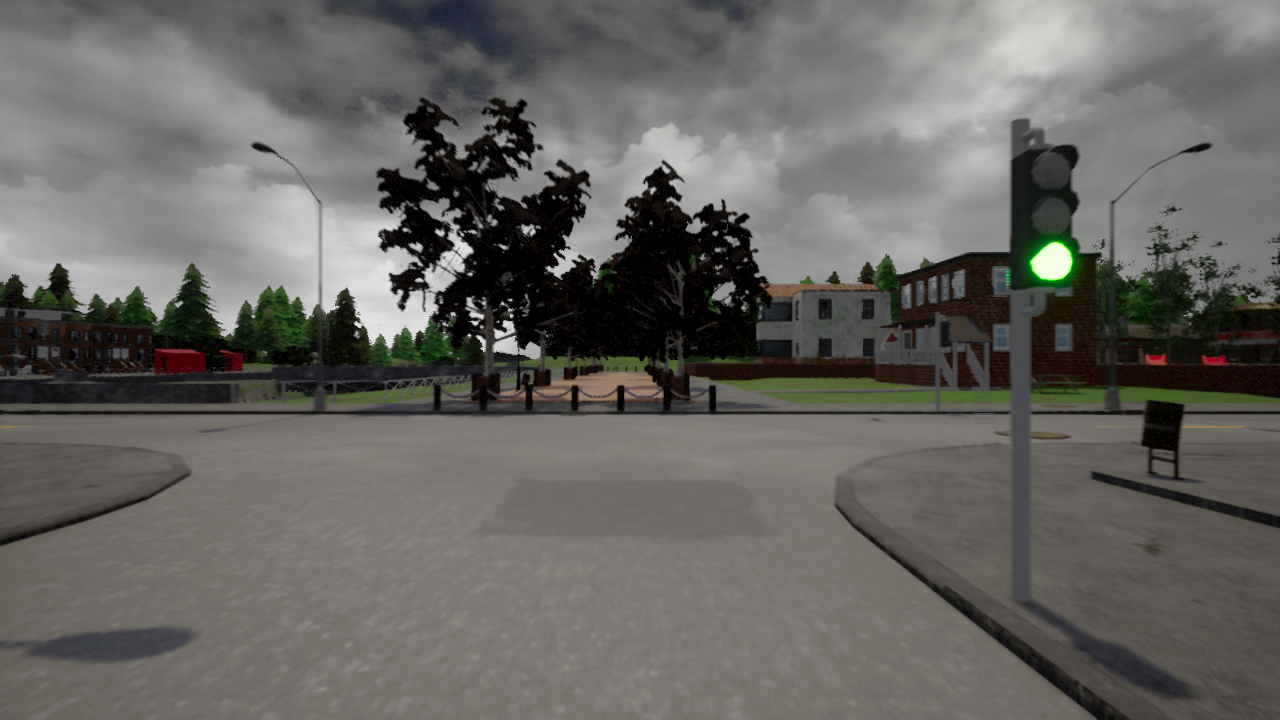green: (1012, 141, 1077, 294)
